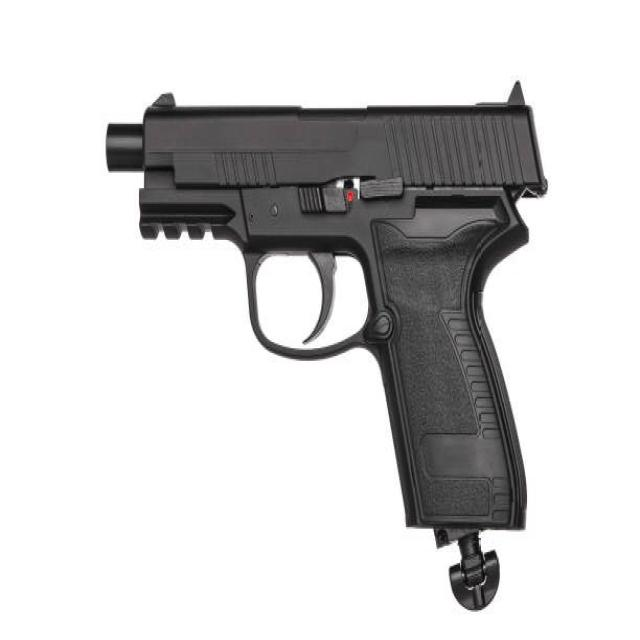pistol: (99, 70, 555, 625)
